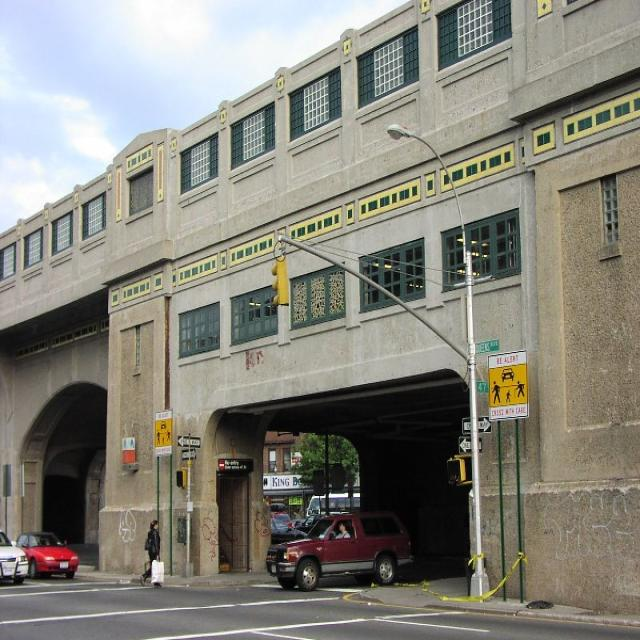Electric pole: (388, 124, 490, 597)
